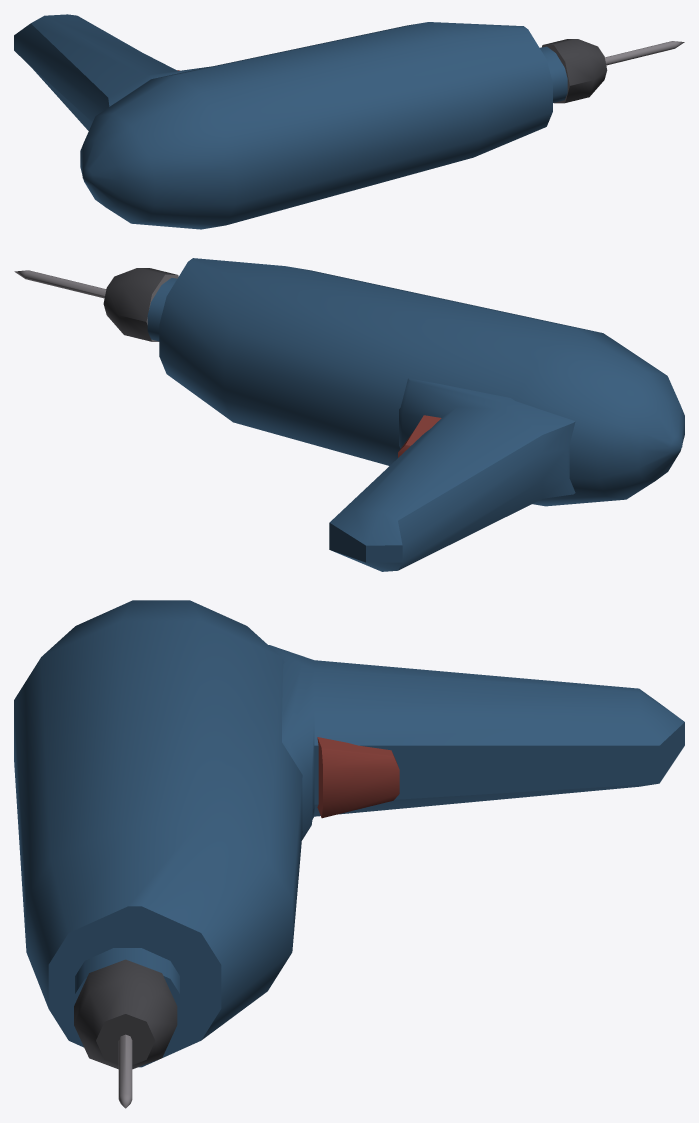
The model's file is Furadeira.fbx.
3 renders of one model, top to bottom at view 1: azimuth 30°, elevation 25°; view 2: azimuth 150°, elevation 25°; view 3: azimuth 270°, elevation 25°, orthographic. The views are drawn at different scales.
Parts seen in each view (by area): view 1: Furadeira; view 2: Furadeira; view 3: Furadeira.
Boxes of the visible parts, bbox=[...] form: Furadeira: bbox=[14, 14, 684, 229]; Furadeira: bbox=[14, 258, 684, 571]; Furadeira: bbox=[14, 600, 684, 1108].
Bounding box in the file's own units: 232 × 51.1 × 143.
